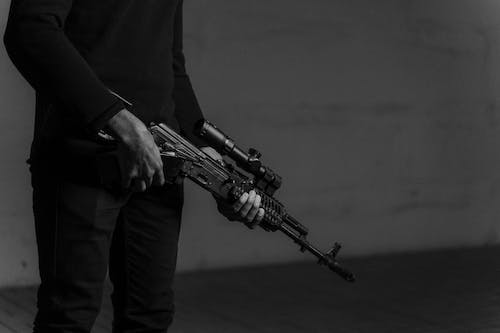gun: (95, 82, 358, 286)
